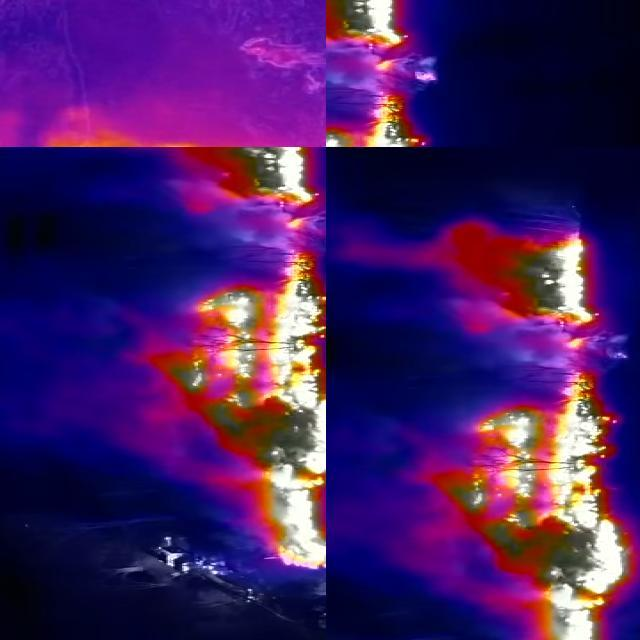fire: (394, 365, 632, 640), (140, 254, 327, 572), (451, 224, 600, 358), (142, 148, 326, 253), (327, 1, 415, 95)
